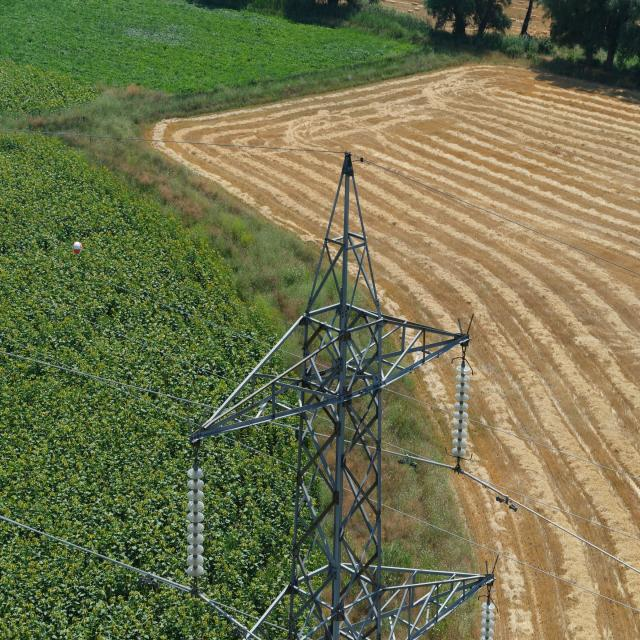direk: (287, 158, 385, 640)
